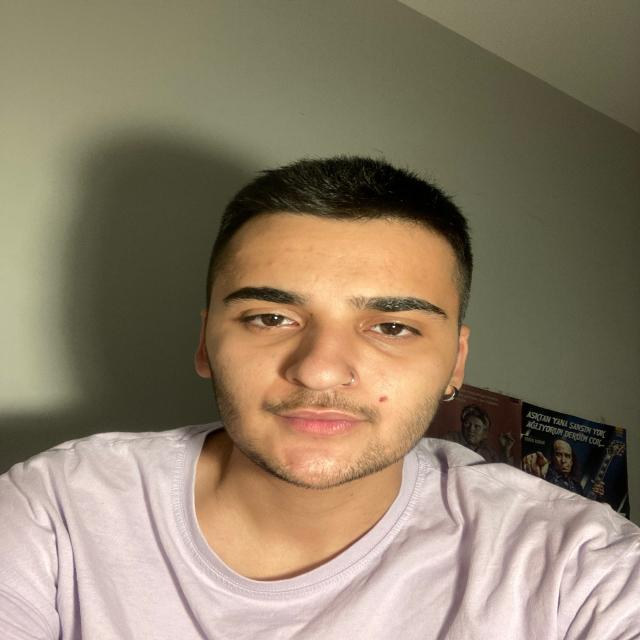Acne: (374, 387, 414, 412), (267, 255, 287, 272)
